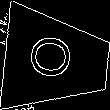O_E: (30, 36, 83, 85)
